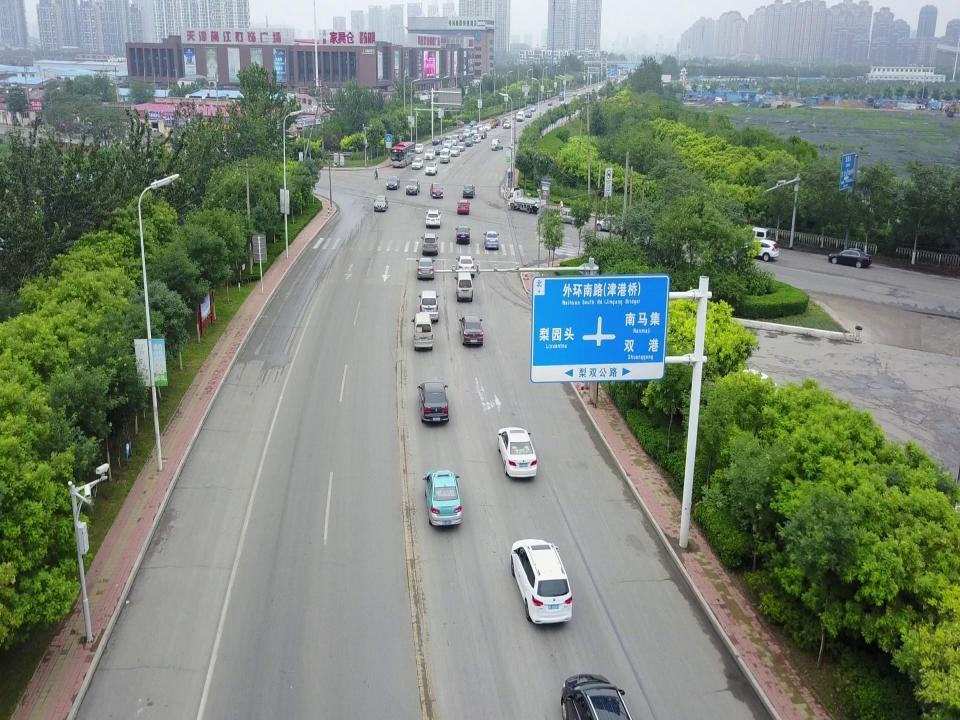bus: (390, 140, 416, 167)
car: (508, 537, 574, 625), (560, 672, 628, 720), (421, 472, 461, 529), (496, 428, 538, 480), (416, 383, 448, 424), (828, 246, 872, 268), (741, 239, 780, 261), (593, 214, 629, 236), (458, 316, 484, 345), (416, 256, 436, 280), (553, 207, 583, 223), (420, 233, 439, 256), (456, 256, 476, 277), (455, 224, 471, 244), (483, 231, 499, 250), (425, 209, 441, 227), (374, 195, 388, 212), (406, 178, 420, 195), (456, 199, 470, 215), (430, 182, 444, 198), (424, 161, 438, 175), (386, 176, 400, 189), (463, 184, 475, 198), (450, 118, 464, 127), (412, 158, 422, 170), (424, 149, 436, 159), (449, 146, 459, 156), (432, 135, 442, 145), (472, 134, 482, 143), (434, 145, 444, 154), (414, 144, 423, 153), (478, 129, 487, 138), (503, 120, 512, 129), (444, 139, 453, 148), (457, 142, 465, 151), (464, 137, 472, 146), (445, 132, 453, 141), (468, 120, 478, 126), (484, 123, 491, 131), (463, 130, 471, 137), (458, 133, 464, 142), (494, 117, 500, 125), (526, 111, 532, 118), (512, 112, 518, 119), (478, 124, 484, 131), (547, 100, 553, 106), (530, 106, 536, 111), (577, 91, 582, 96), (572, 91, 576, 95)
truck: (508, 187, 546, 214), (558, 90, 566, 101), (488, 118, 496, 127)
van: (410, 312, 434, 349), (418, 291, 440, 323), (737, 227, 769, 247), (455, 273, 473, 300), (440, 147, 450, 162), (492, 138, 502, 150), (450, 135, 460, 144), (516, 110, 524, 121), (471, 126, 479, 134), (501, 117, 507, 125)
